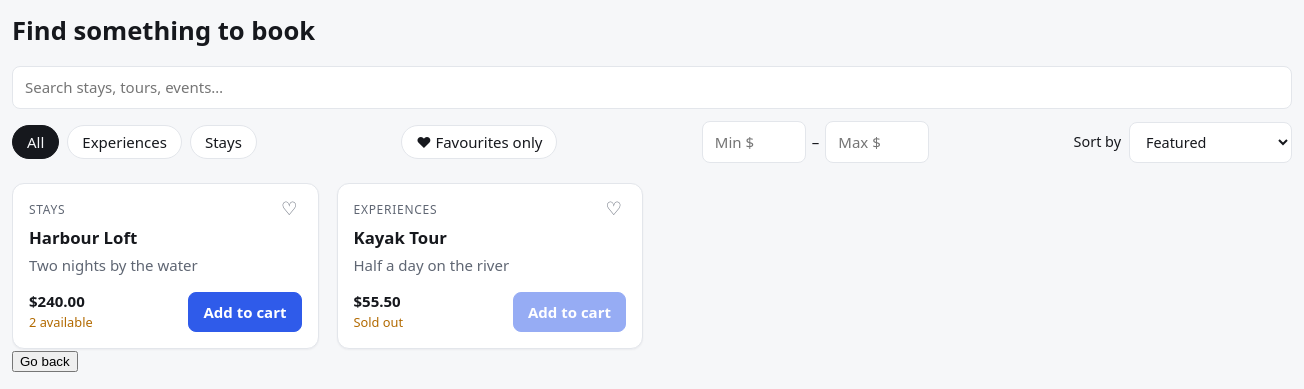
Test: Products page › sends the search text as q
Expected: the heading "Harbour Loft" is shown, [29, 226, 137, 249]
In the search field named "Search the catalog": [652, 88] box [12, 66, 1292, 109], type "kayak"
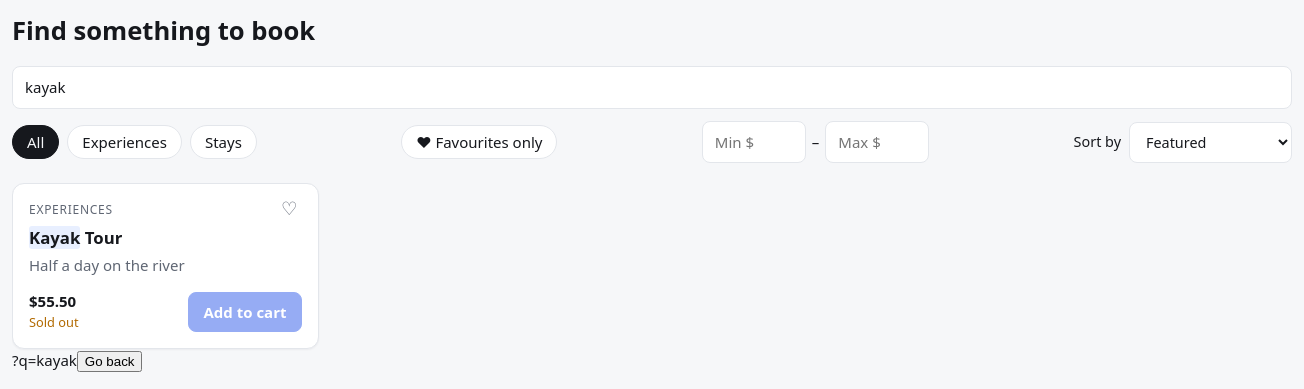
Expected: the heading "Kayak Tour" is shown, [29, 226, 122, 249]
Result: the link "Harbour Loft" is gone
